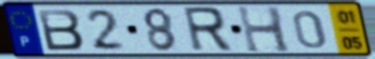0: (290, 9, 330, 50)
2: (85, 8, 128, 52)
8: (142, 6, 180, 53)
B: (35, 8, 87, 52)
H: (235, 5, 294, 55)
R: (180, 5, 236, 54)
